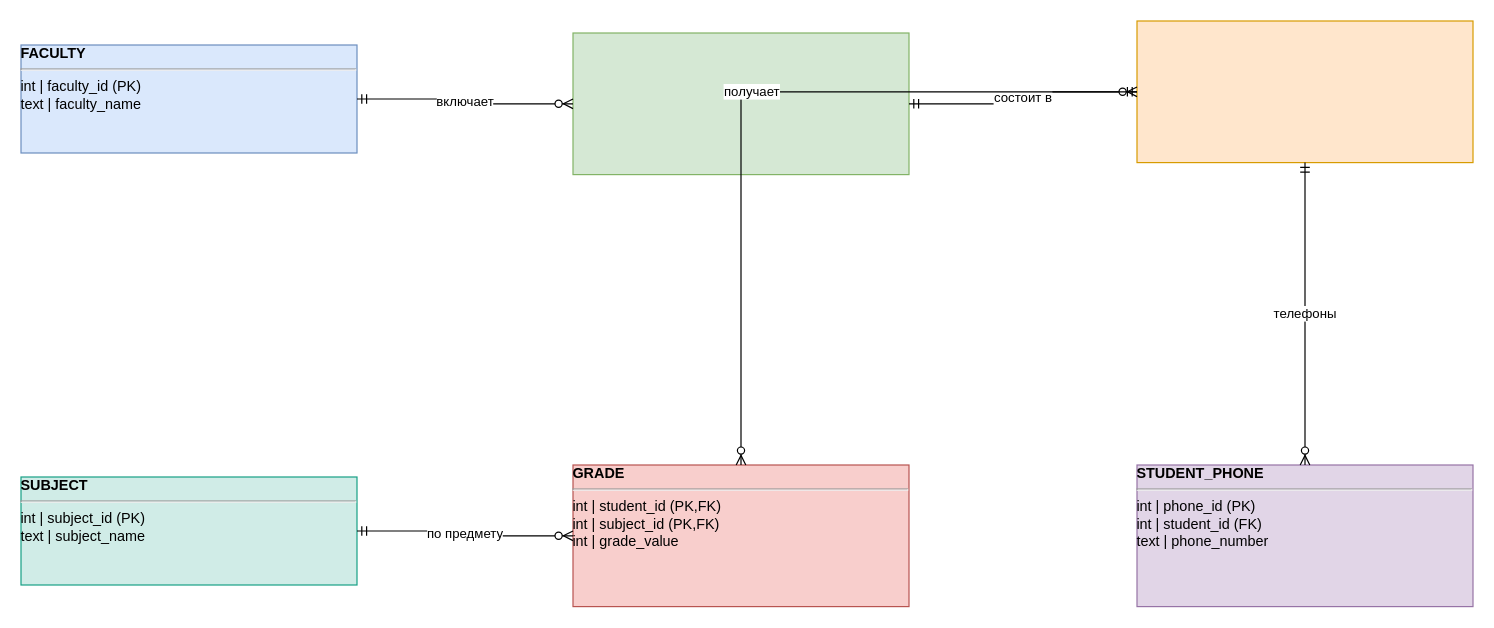
The diagram is 1494 pixels wide and 628 high, and some of its shapes have lost their labels. The centre of each missing label's shape, as x and y in pixels:
"STUDENT int | student_id (PK) text | fio int | group_id (FK)" belongs at pixel 1304 91.
"STUDY_GROUP int | group_id (PK) text | group_name int | faculty_id (FK)" belongs at pixel 740 103.
